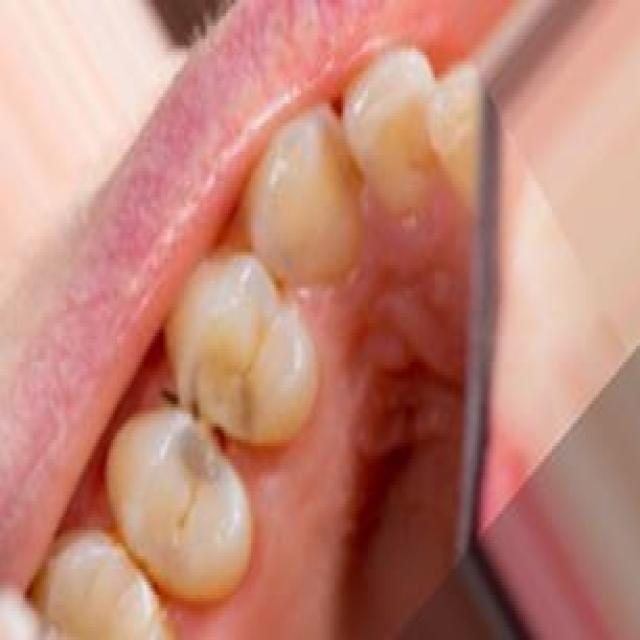caries: (158, 345, 262, 508)
